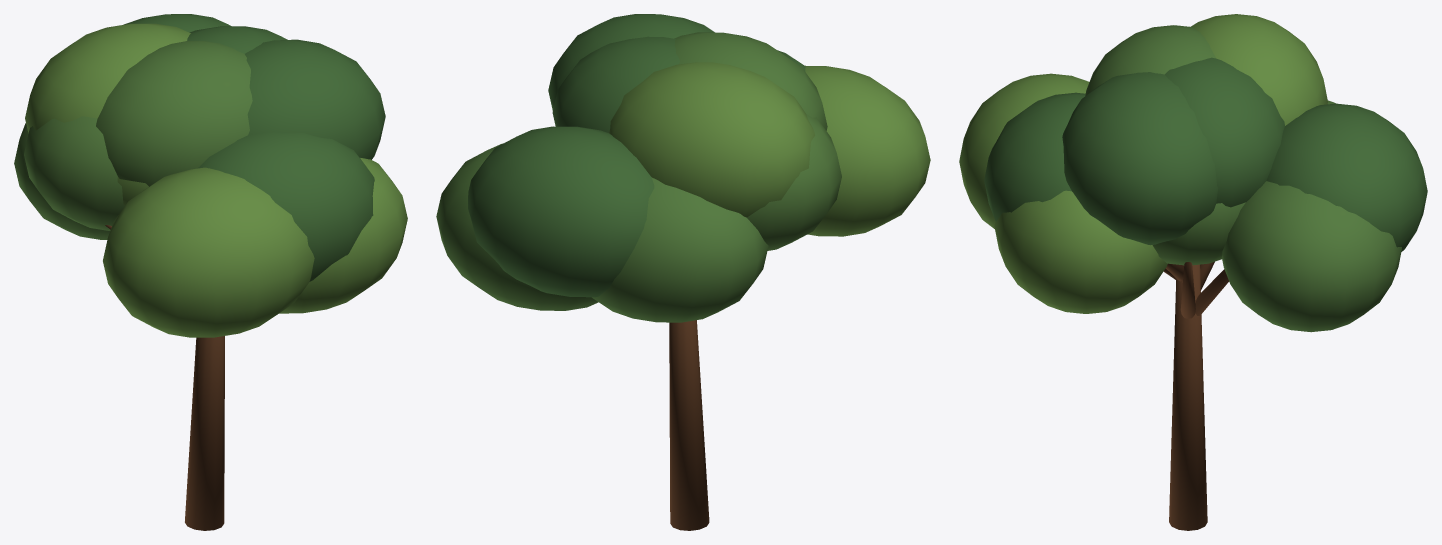
3 renders of one model, left to right at view 1: azimuth 30°, elevation 25°; view 2: azimuth 150°, elevation 25°; view 3: azimuth 270°, elevation 25°, orthographic. The views are drawn at different scales.
Parts seen in each view (by area): view 1: Canopy cluster.008, Canopy cluster, Canopy cluster.003, Canopy cluster.006, Canopy cluster.002, Canopy cluster.010, Trunk, Canopy cluster.011, Canopy cluster.007, Canopy cluster.009, Canopy cluster.012; view 2: Canopy cluster.012, Canopy cluster.002, Canopy cluster.007, Canopy cluster.008, Trunk, Canopy cluster.009, Canopy cluster.004, Canopy cluster.010, Canopy cluster, Canopy cluster.006; view 3: Canopy cluster.006, Canopy cluster.004, Canopy cluster.012, Canopy cluster.011, Canopy cluster.009, Canopy cluster.002, Canopy cluster.003, Trunk, Canopy cluster.008, Canopy cluster, Canopy cluster.001, Branch.001 (+1 smaller).
Boxes of the visible parts, x1,y1,x2,y2 form: Canopy cluster.008: (103, 167, 314, 337); Canopy cluster: (96, 41, 252, 186); Canopy cluster.003: (197, 132, 374, 281); Canopy cluster.006: (245, 39, 385, 159); Canopy cluster.002: (25, 23, 190, 133); Canopy cluster.010: (24, 116, 125, 230); Trunk: (185, 336, 224, 530); Canopy cluster.011: (279, 158, 407, 313); Canopy cluster.007: (14, 123, 109, 239); Canopy cluster.009: (187, 26, 287, 53); Canopy cluster.012: (123, 14, 231, 32); Canopy cluster.012: (468, 126, 654, 297); Canopy cluster.002: (609, 62, 814, 217); Canopy cluster.007: (592, 177, 768, 322); Canopy cluster.008: (805, 65, 930, 236); Trunk: (669, 320, 709, 530); Canopy cluster.009: (552, 36, 679, 132); Canopy cluster.004: (436, 143, 598, 310); Canopy cluster.010: (747, 114, 841, 250); Canopy cluster: (674, 32, 827, 130); Canopy cluster.006: (548, 14, 714, 110); Canopy cluster.006: (1062, 72, 1218, 245); Canopy cluster.004: (1221, 181, 1401, 332); Canopy cluster.012: (1266, 103, 1427, 251); Canopy cluster.011: (994, 190, 1167, 313); Canopy cluster.009: (1165, 57, 1284, 207); Canopy cluster.002: (1191, 14, 1327, 125); Canopy cluster.003: (984, 92, 1085, 221); Trunk: (1169, 264, 1207, 530); Canopy cluster.008: (959, 73, 1089, 228); Canopy cluster: (1085, 25, 1215, 95); Canopy cluster.001: (1152, 202, 1245, 265); Branch.001: (1180, 262, 1195, 318).
Size of the model in its own units: 4.01 by 5.41 by 4.85.
